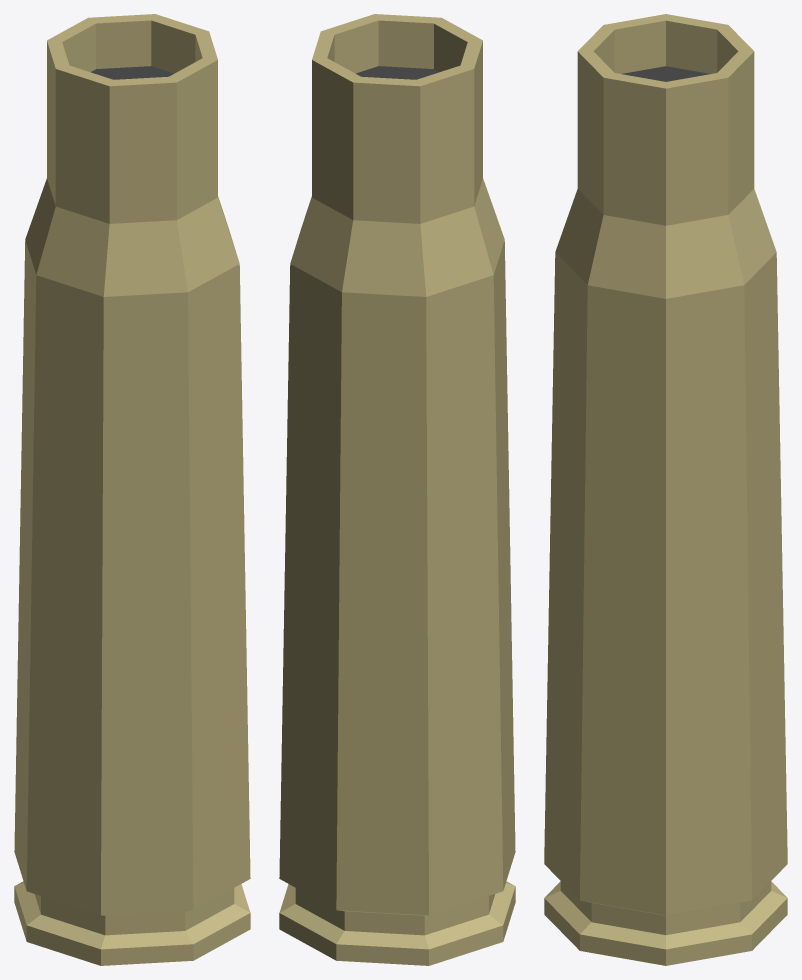
The model's file is CRTE-556.fbx.
The picture shows the model from 3 angles, left to right: view 1: azimuth 30°, elevation 25°; view 2: azimuth 150°, elevation 25°; view 3: azimuth 270°, elevation 25°; orthographic projection.
Parts seen in each view (by area): view 1: Cylinder.023; view 2: Cylinder.023; view 3: Cylinder.023.
Boxes of the visible parts, <box> form: Cylinder.023: <box>14,14,250,965</box>; Cylinder.023: <box>279,14,515,965</box>; Cylinder.023: <box>544,14,787,965</box>.
Size of the model in its own units: 28.31 by 111 by 28.31.
